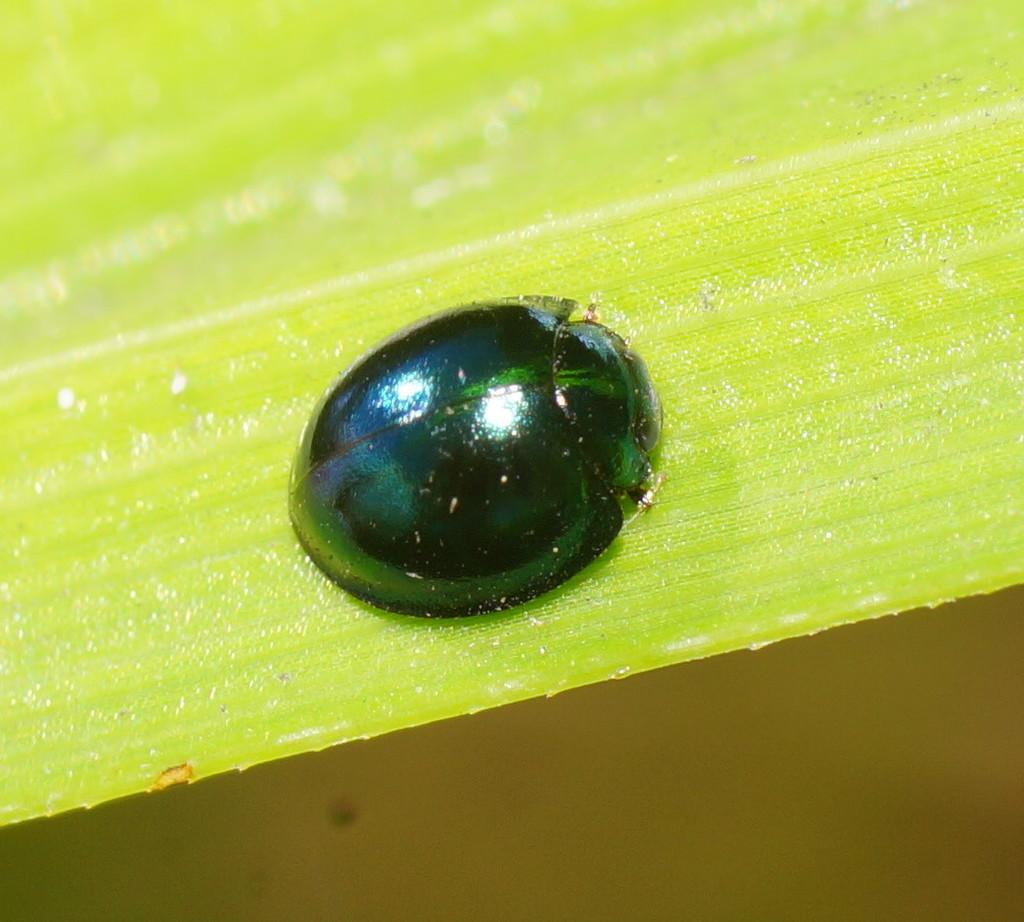ladybug: (281, 284, 671, 629)
